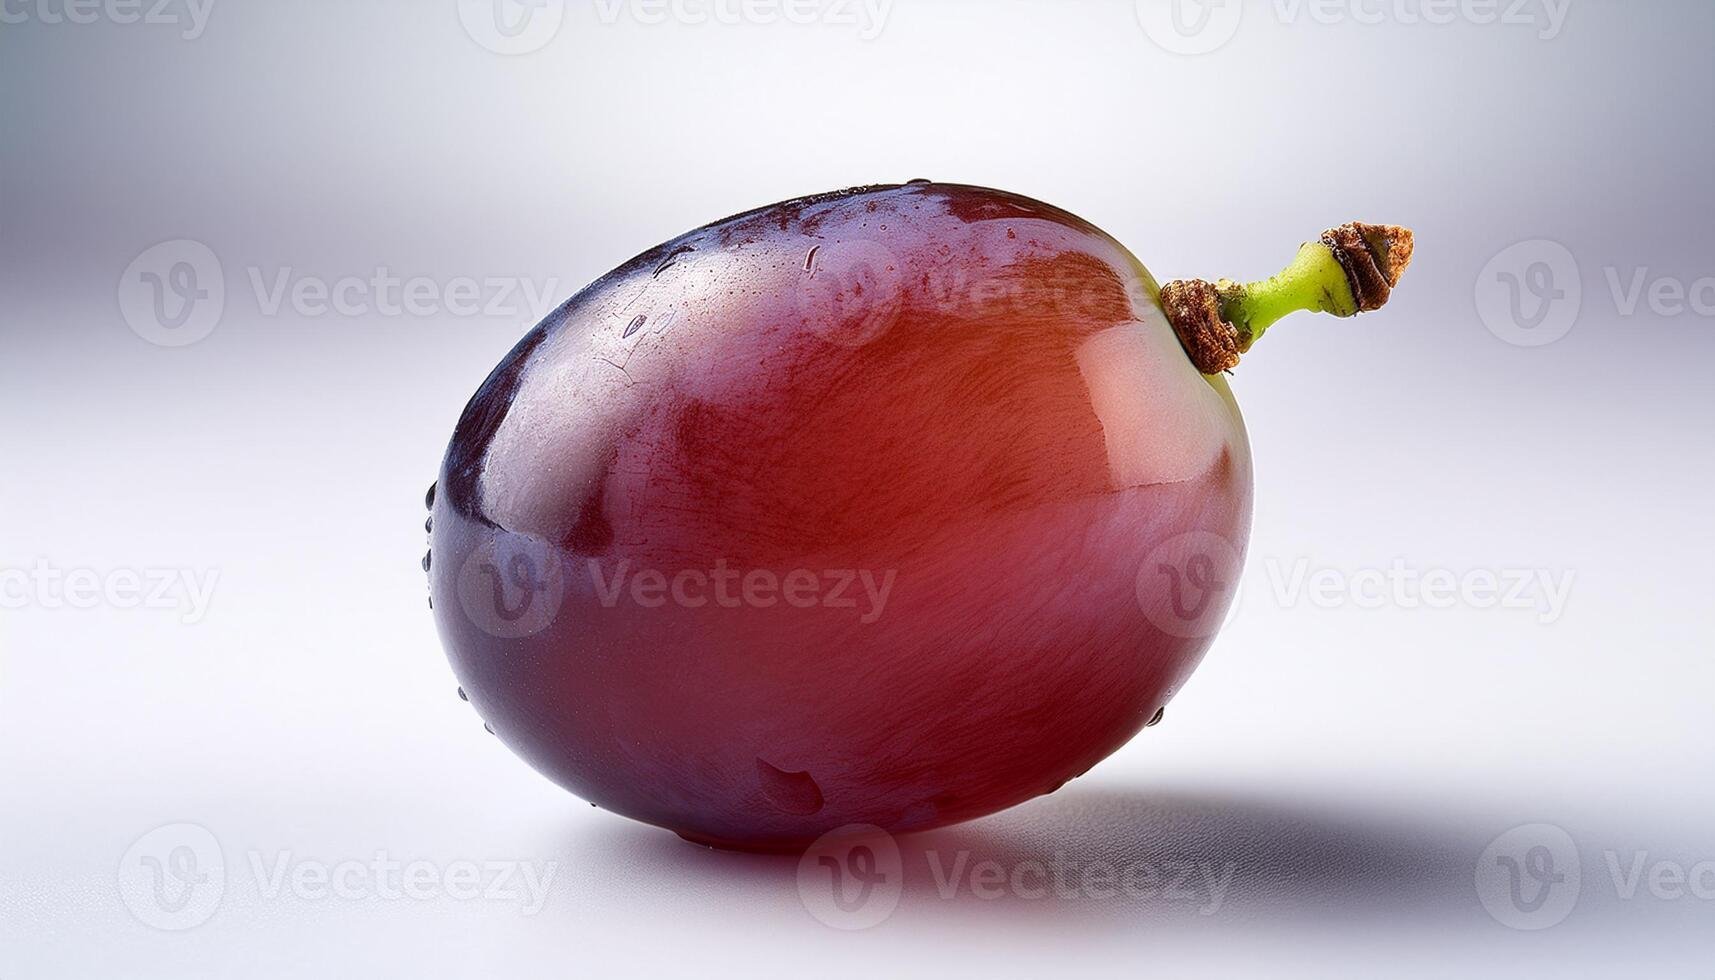grapes: (392, 114, 1523, 859)
